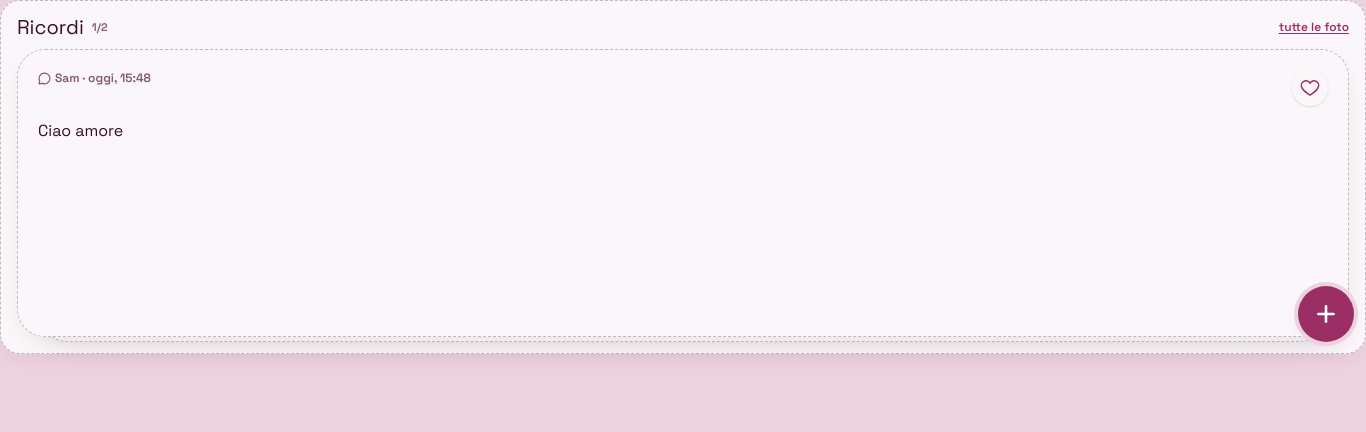
MemoriesDeck › mostra e aggiorna l'indicatore di posizione con più ricordi
Expected: the text "Ciao amore" is shown, [38,120,123,141]
Expected: the text "1/2" is shown, [92,19,108,35]
Press the mouse on the element with test id "memory-card" at (683,193), box [17,49,1349,337]
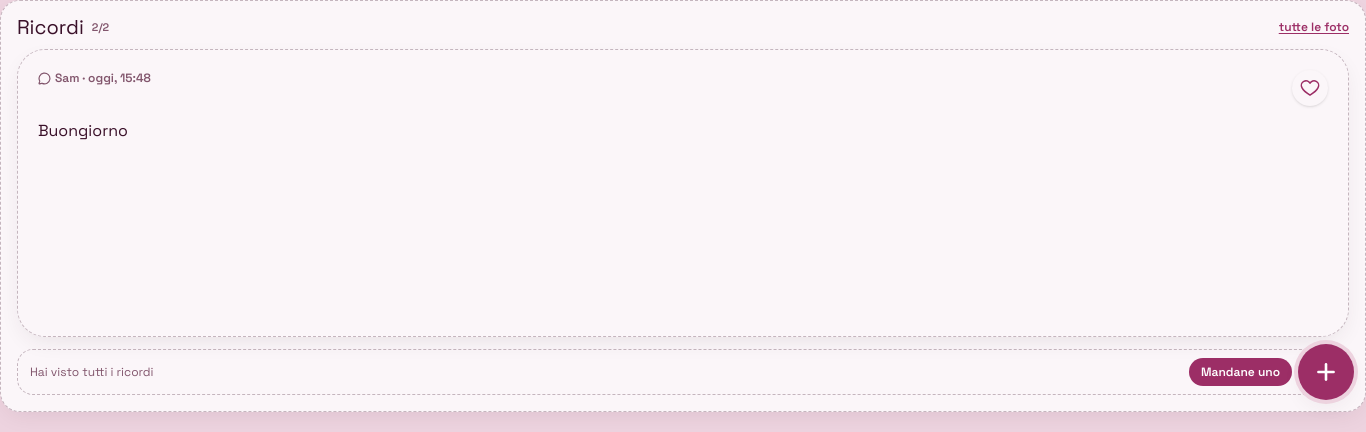
Expected: the text "2/2" is shown, [92,19,109,35]
